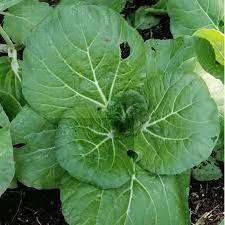Healthy-Pechay: (3, 10, 225, 214)
